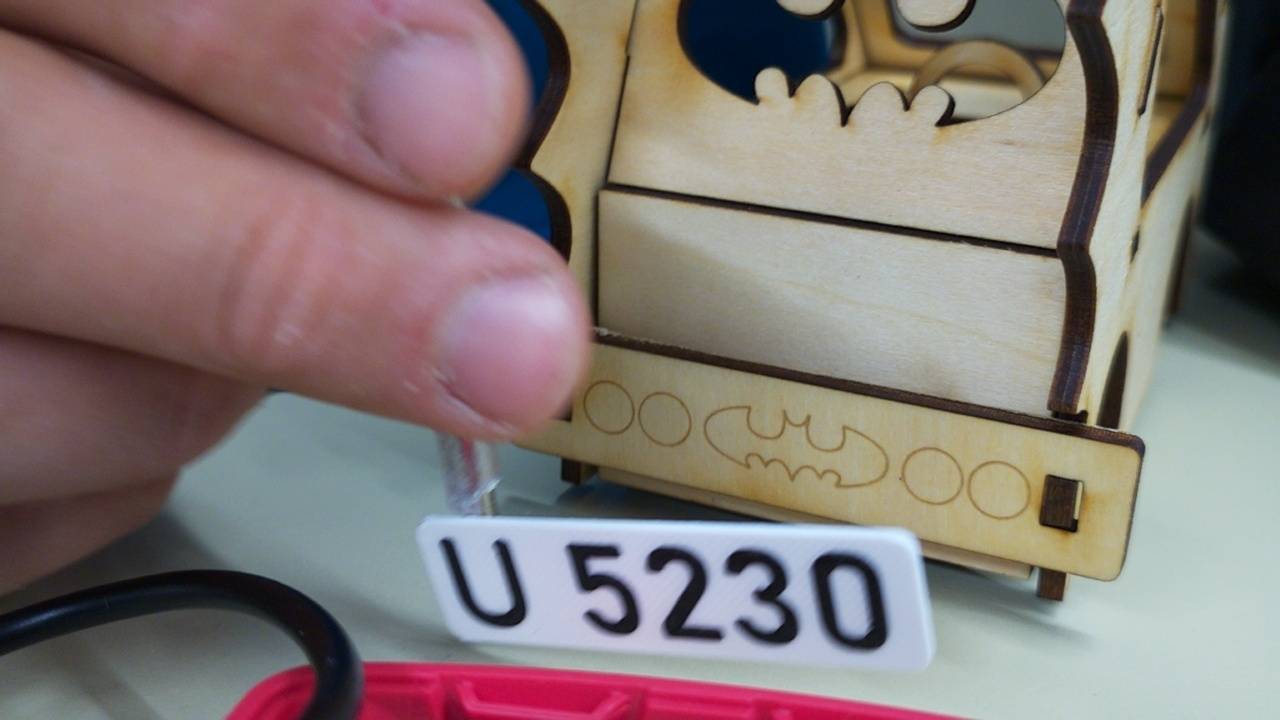license_plate: (412, 512, 938, 678)
